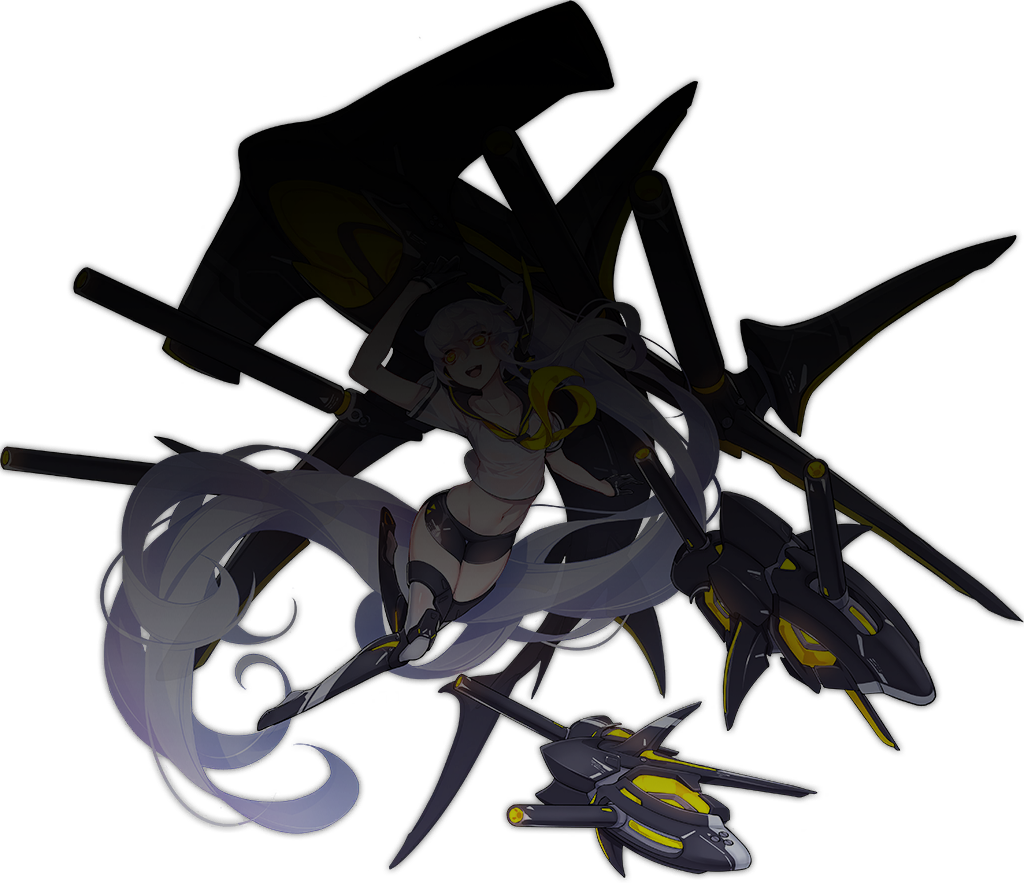person: (92, 193, 704, 839)
